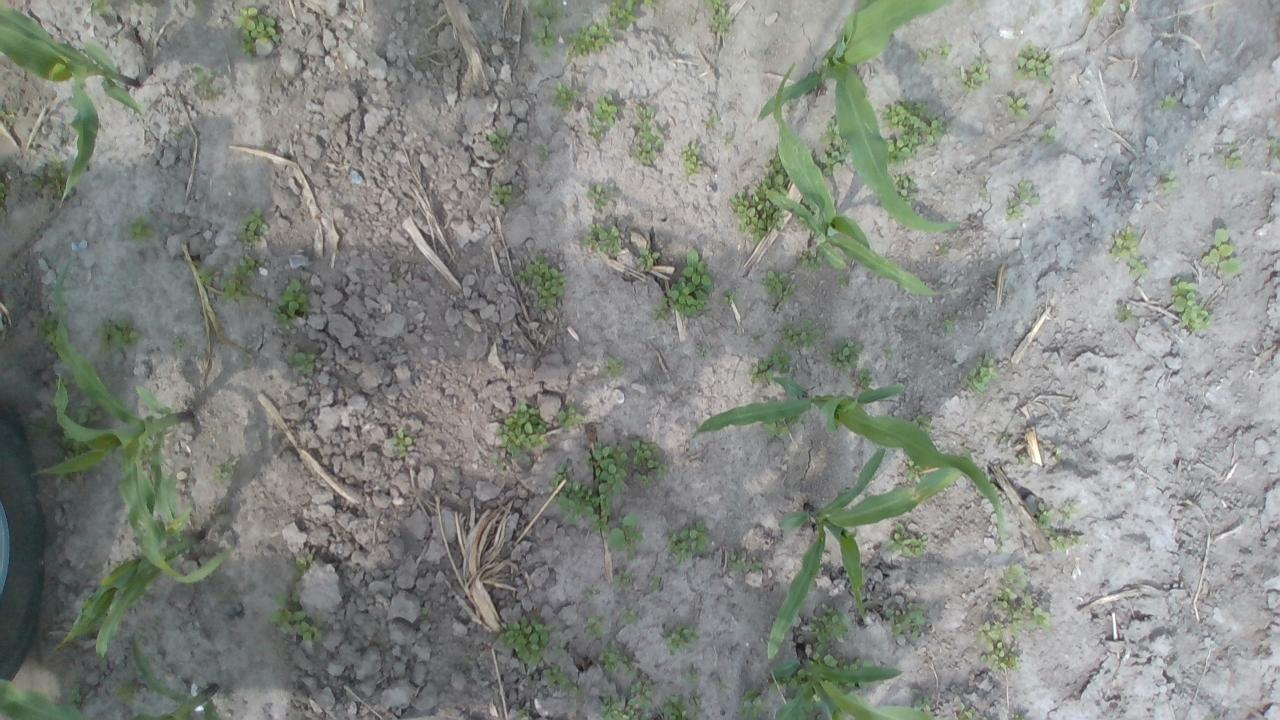Maize: (36, 260, 230, 587), (690, 375, 1006, 544), (755, 0, 962, 235), (764, 63, 955, 300), (766, 444, 970, 656), (52, 445, 206, 673), (0, 0, 144, 209), (0, 633, 221, 720), (770, 656, 940, 720)
Weeds: (877, 99, 946, 168), (652, 248, 715, 320), (992, 566, 1054, 635), (728, 172, 788, 243), (498, 615, 568, 670), (550, 479, 612, 535), (495, 400, 550, 458), (266, 590, 324, 642), (513, 256, 567, 310), (230, 7, 281, 56), (976, 620, 1024, 672), (584, 442, 631, 495), (1170, 276, 1212, 332), (598, 679, 654, 720), (629, 105, 665, 168), (629, 436, 671, 489), (270, 278, 314, 328), (94, 316, 142, 361), (1200, 227, 1241, 278), (218, 255, 259, 306), (664, 518, 709, 564), (818, 116, 852, 176), (563, 17, 616, 55), (604, 512, 643, 560), (1110, 226, 1148, 274), (882, 520, 929, 558), (776, 316, 824, 353), (960, 350, 1000, 394), (1011, 44, 1054, 84), (806, 602, 849, 642), (748, 346, 792, 384), (596, 639, 637, 676), (576, 221, 621, 254), (884, 606, 926, 640), (1006, 180, 1040, 221), (66, 390, 102, 428), (542, 665, 584, 697), (663, 620, 700, 656), (590, 93, 618, 140), (734, 686, 772, 720), (662, 691, 706, 720), (700, 0, 736, 35), (760, 270, 796, 305), (47, 158, 75, 200), (828, 336, 864, 368), (888, 171, 918, 209), (236, 207, 268, 242), (958, 59, 991, 92), (606, 0, 640, 30), (528, 0, 568, 25), (763, 415, 801, 441), (58, 432, 92, 461), (549, 80, 581, 109), (36, 312, 59, 352), (556, 402, 585, 433), (531, 25, 556, 58), (678, 142, 702, 176), (727, 550, 764, 572), (771, 668, 808, 690), (1214, 143, 1245, 168), (581, 615, 610, 641), (111, 680, 140, 706), (1046, 528, 1079, 550), (810, 640, 840, 664), (287, 350, 318, 372), (127, 214, 153, 240), (798, 246, 822, 274), (1004, 94, 1032, 118), (1034, 500, 1055, 530), (909, 686, 933, 712), (190, 63, 212, 91), (768, 148, 790, 175), (590, 184, 612, 209), (391, 431, 413, 456), (801, 692, 820, 720), (602, 354, 624, 378), (830, 678, 874, 690), (903, 456, 921, 485), (486, 130, 508, 152), (491, 184, 514, 204), (550, 462, 568, 487), (839, 658, 876, 670), (637, 248, 659, 268), (194, 268, 218, 286), (911, 414, 934, 432), (296, 554, 314, 576), (934, 38, 952, 60), (88, 0, 112, 16), (620, 608, 641, 626), (1159, 171, 1178, 190), (612, 573, 634, 589), (855, 368, 871, 390), (1266, 137, 1280, 161), (958, 702, 976, 720), (214, 464, 233, 481), (62, 687, 82, 703), (1088, 0, 1106, 16), (170, 127, 192, 140), (702, 115, 721, 130), (580, 586, 600, 600), (1158, 96, 1178, 110), (534, 142, 549, 160), (416, 606, 432, 622), (1, 102, 16, 119), (932, 242, 949, 257), (1041, 126, 1055, 144), (1060, 501, 1076, 516), (834, 272, 849, 287), (916, 48, 929, 64), (650, 574, 661, 592), (30, 176, 44, 190), (684, 670, 698, 684), (1012, 453, 1028, 465), (1118, 0, 1130, 15), (944, 318, 954, 335), (976, 187, 988, 201), (724, 290, 736, 304), (0, 182, 9, 200), (1118, 307, 1130, 320), (881, 346, 894, 358), (519, 707, 530, 720), (491, 456, 502, 466), (723, 134, 733, 144), (1010, 713, 1024, 720), (642, 0, 657, 6), (175, 339, 183, 349), (696, 350, 704, 360)
